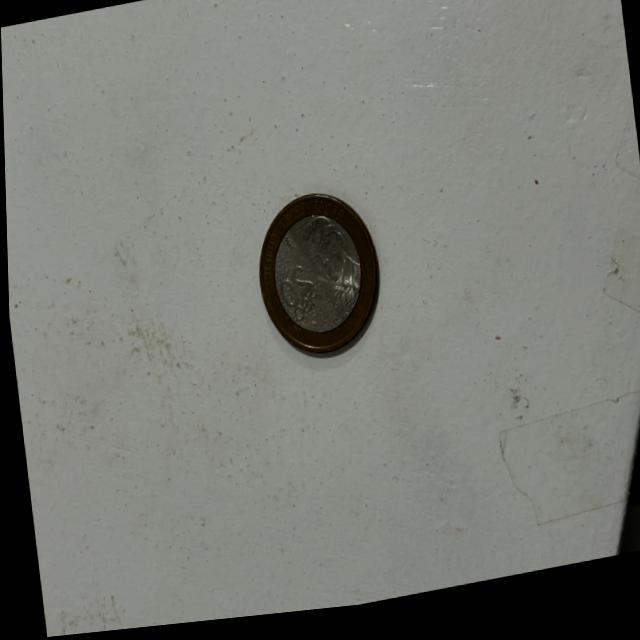20_New_Front: (270, 270, 314, 333)
